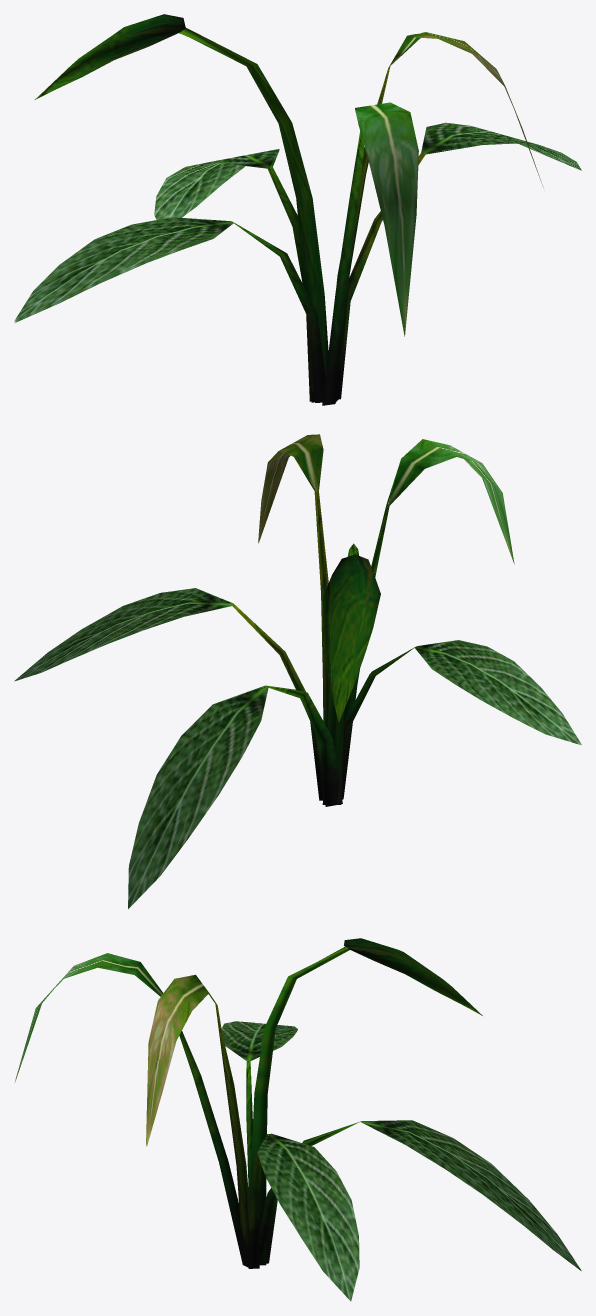
The model's file is del.ico.obj.
3 views of the same model, one above another, from view 1: azimuth 30°, elevation 25°; view 2: azimuth 150°, elevation 25°; view 3: azimuth 270°, elevation 25° (orthographic). The views are drawn at different scales.
Size of the model in its own units: 4.5 by 2.66 by 4.41.
Materials: 1 (1 with a texture image).
